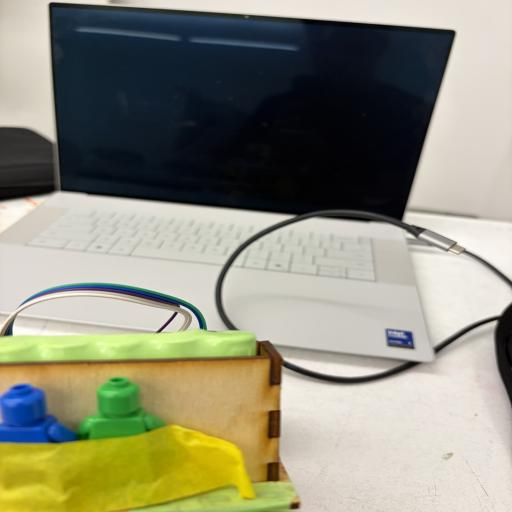Blue-Lego: (0, 384, 76, 444)
Green-Lego: (88, 377, 165, 439)
